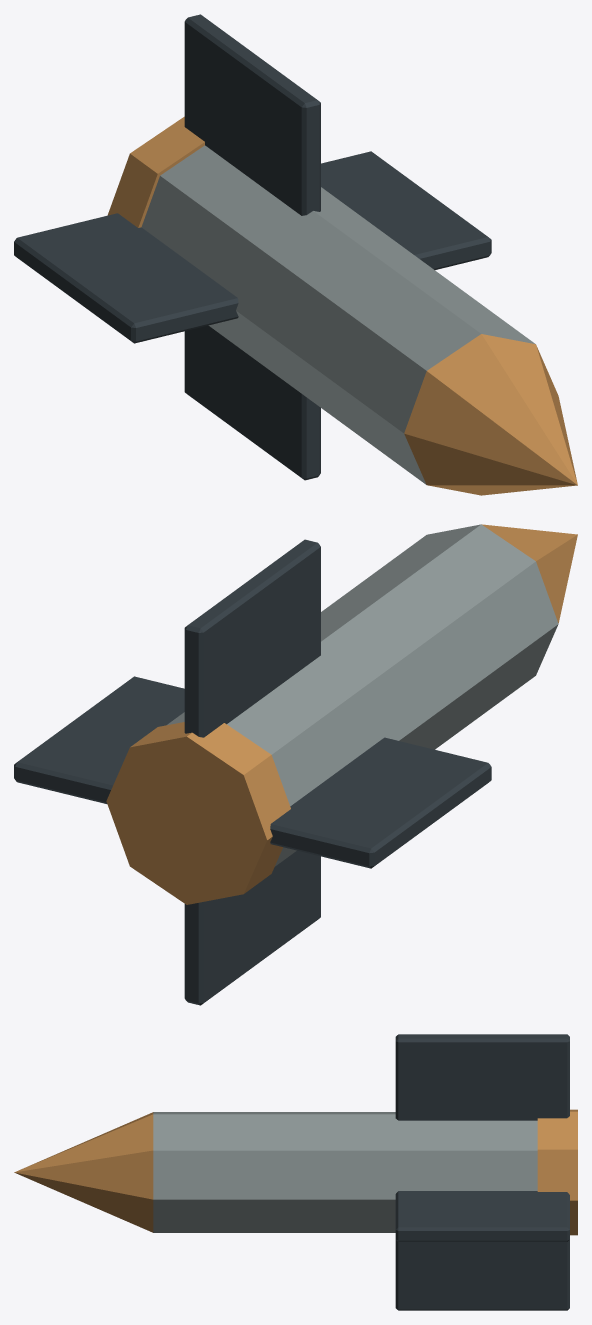
The model's file is robot-missile.glb.
3 views of the same model, one above another, from view 1: azimuth 30°, elevation 25°; view 2: azimuth 150°, elevation 25°; view 3: azimuth 270°, elevation 25° (orthographic). The views are drawn at different scales.
Parts seen in each view (by area): view 1: robot_missile; view 2: robot_missile; view 3: robot_missile.
Boxes of the visible parts, x1,y1,x2,y2 form: robot_missile: (14, 14, 577, 495); robot_missile: (14, 524, 577, 1005); robot_missile: (14, 1034, 577, 1310).
Size of the model in its own units: 1.12 by 1.12 by 2.11.
